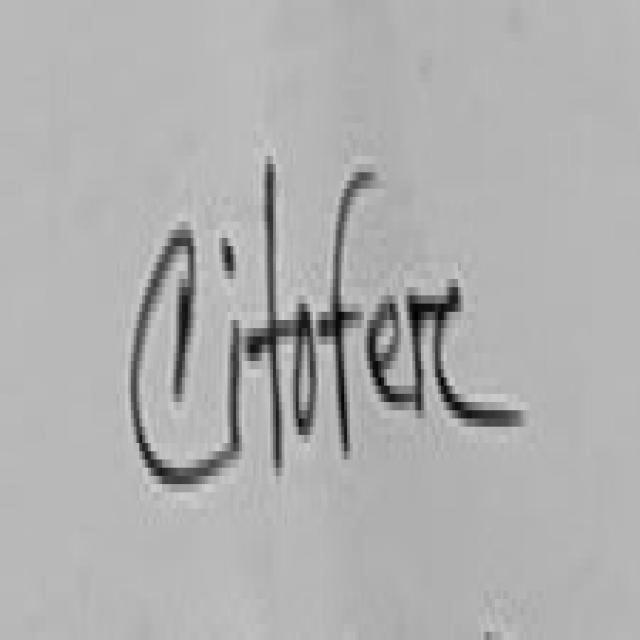C: (131, 230, 228, 484)
e: (370, 304, 415, 402)
f: (321, 172, 375, 459)
i: (230, 320, 242, 447), (222, 238, 236, 279)
o: (296, 304, 319, 435)
r: (410, 287, 523, 427)
t: (247, 164, 296, 468)
